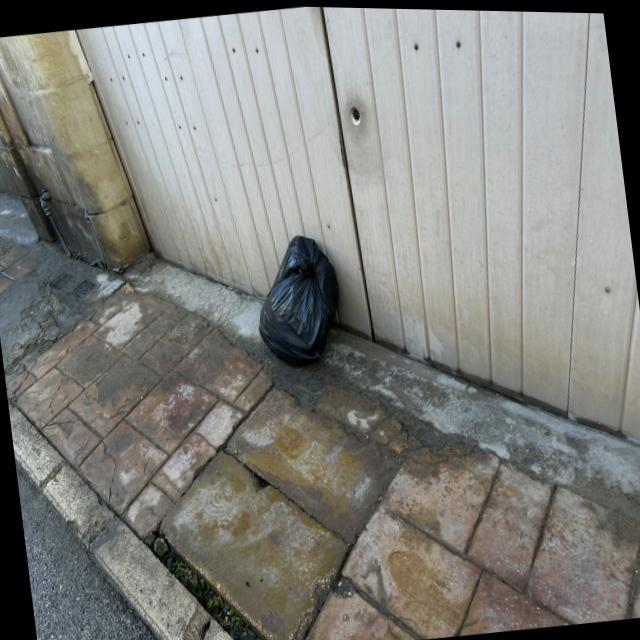Mixed Waste -Black Bags-: (258, 234, 338, 364)
